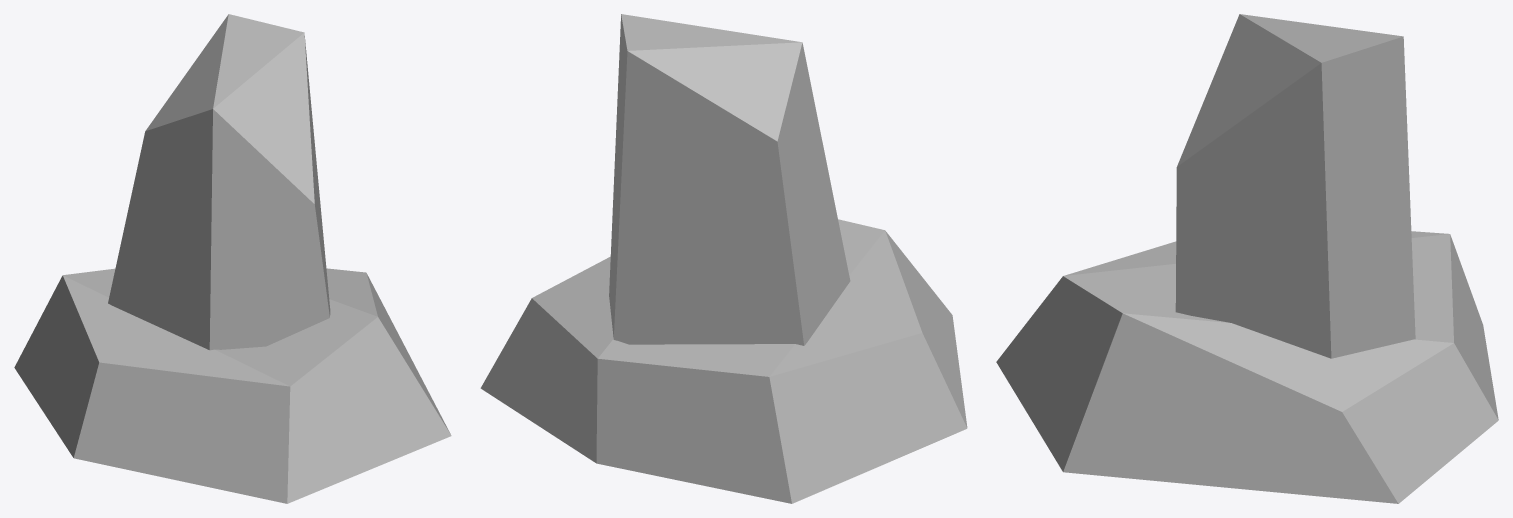
The model's file is rock_3.fbx.
The picture shows the model from 3 angles, left to right: view 1: azimuth 30°, elevation 25°; view 2: azimuth 150°, elevation 25°; view 3: azimuth 270°, elevation 25°; orthographic projection. The views are drawn at different scales.
Visible parts, largest first — view 1: rock_3; view 2: rock_3; view 3: rock_3.
Part boxes in pixels (x1,y1,x2,y2): rock_3: (14,14,451,503); rock_3: (480,14,967,503); rock_3: (996,14,1498,503).
Bounding box in the file's own units: 945 × 834 × 970.
